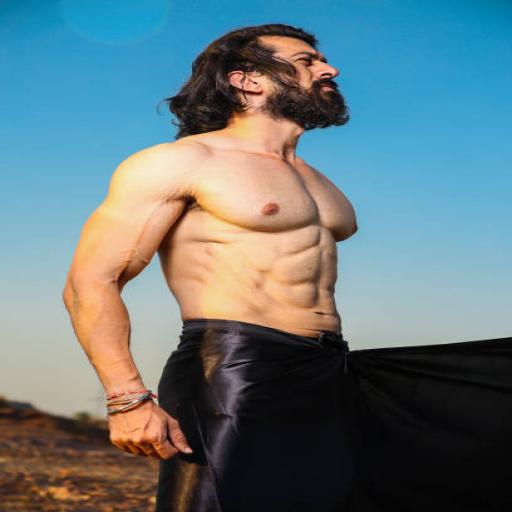Person: (122, 9, 344, 492)
no_gloves: (147, 363, 233, 462)
no_goggle: (248, 50, 314, 80)
no_helmet: (178, 24, 337, 116)
none: (152, 135, 337, 349)
